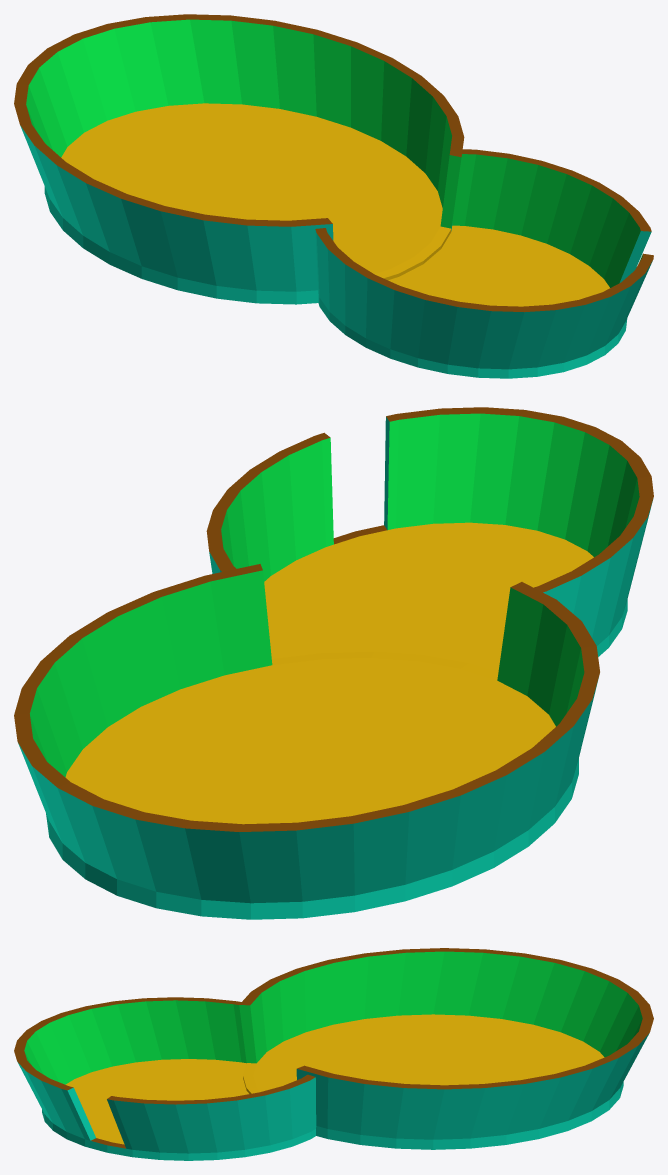
Rendered from casa02.fbx.
3 renders of one model, top to bottom at view 1: azimuth 30°, elevation 25°; view 2: azimuth 150°, elevation 25°; view 3: azimuth 270°, elevation 25°, orthographic. The views are drawn at different scales.
Visible parts, largest first — view 1: Cylinder.004; view 2: Cylinder.004; view 3: Cylinder.004.
Boxes of the visible parts, box(x1,y1,x2,y2) form: Cylinder.004: box(14, 14, 653, 378); Cylinder.004: box(14, 407, 653, 919); Cylinder.004: box(14, 948, 653, 1160).
Size of the model in its own units: 1184 by 239 by 2088.
